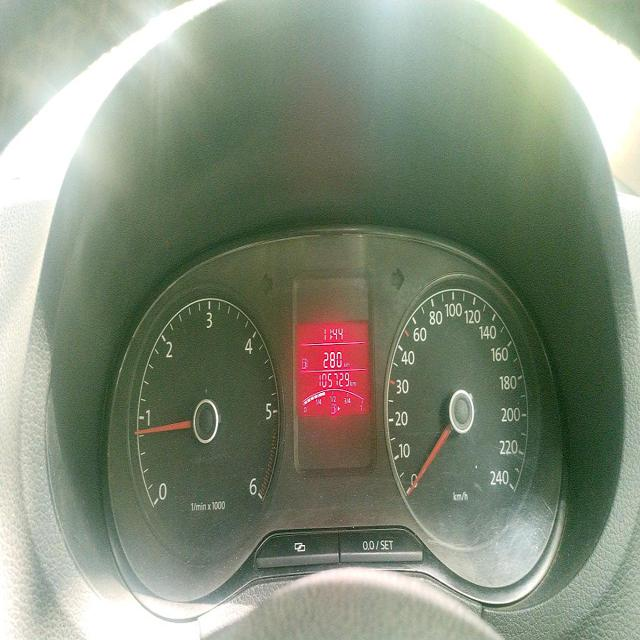odometer: (314, 371, 350, 389)
